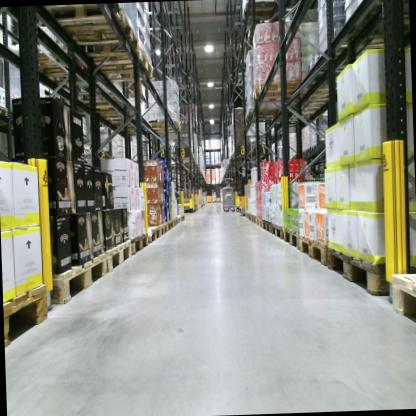pallet: (54, 8, 141, 60), (49, 249, 112, 310), (326, 242, 391, 299), (3, 280, 51, 348), (22, 44, 98, 85), (82, 52, 156, 83), (39, 4, 122, 25), (387, 268, 416, 325), (250, 77, 300, 102), (72, 89, 127, 110), (297, 234, 329, 270), (105, 239, 133, 278), (242, 1, 281, 27), (242, 107, 280, 126), (151, 118, 183, 136), (126, 232, 149, 257), (281, 227, 299, 250), (146, 226, 161, 244), (269, 221, 283, 240), (260, 217, 271, 235), (158, 222, 167, 237), (255, 215, 262, 229), (166, 219, 173, 232), (250, 213, 256, 225), (172, 217, 178, 228), (177, 215, 182, 225), (244, 210, 248, 220), (247, 211, 251, 221), (182, 212, 185, 219)
pallet_truck: (237, 162, 265, 213), (217, 177, 238, 214)
